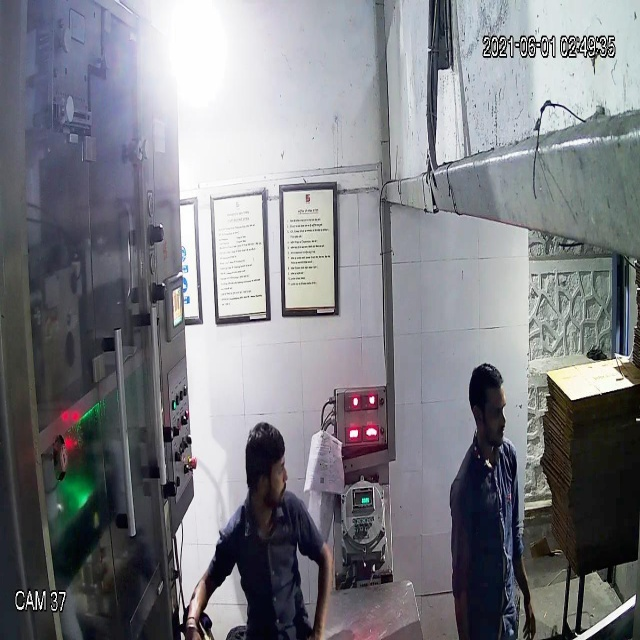Sin_gafas: (240, 452, 291, 491), (466, 394, 516, 428)
